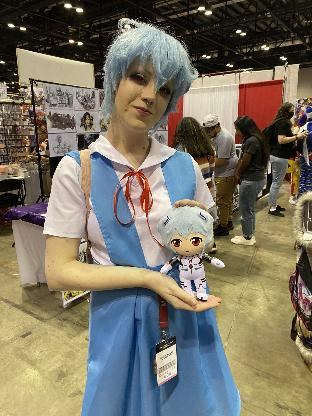rei-plush: (148, 201, 228, 302)
